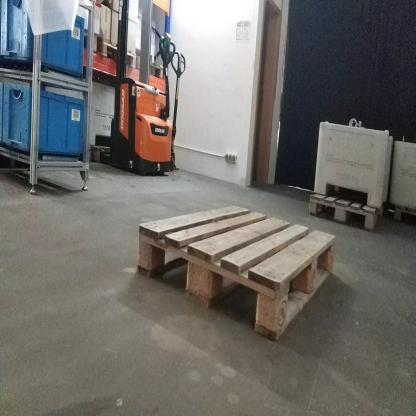BoxFace: (131, 199, 339, 348)
